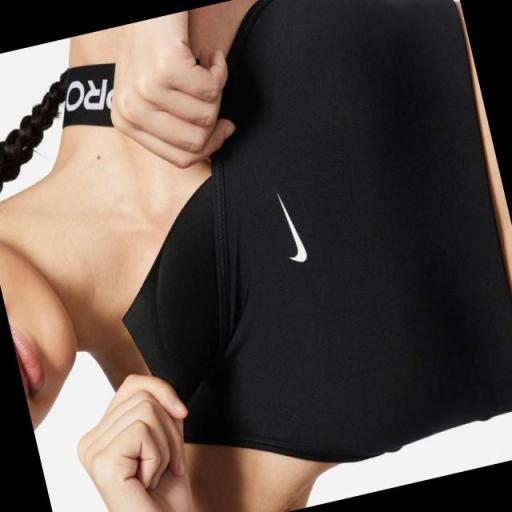Nike: (273, 186, 312, 268)
